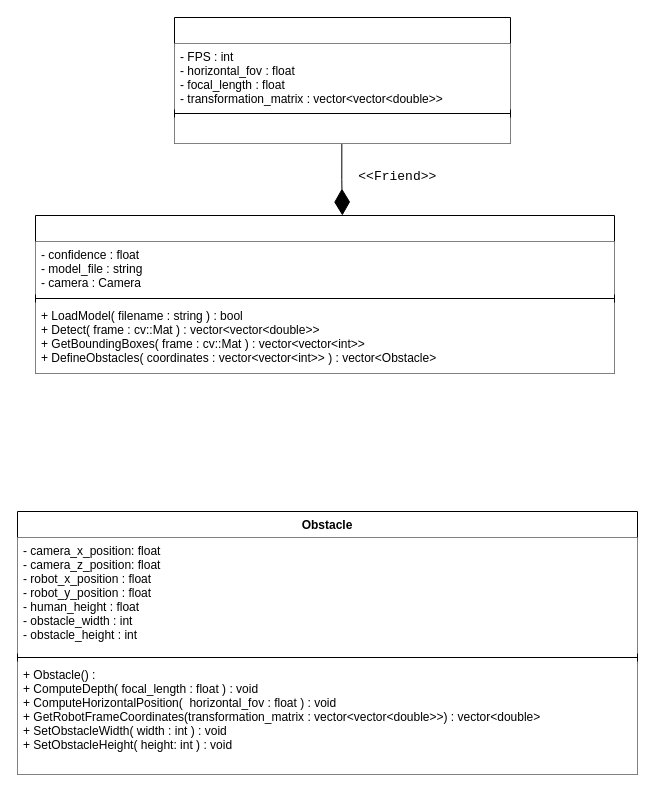
The diagram is 655 pixels wide and 795 high, and some of its shapes have lost their labels. The shapes that lost their labels are listed below. From the top down, each one's box as (x1, y1, x2, y2) in pixels, then its label:
(174, 16, 510, 144): Camera
(34, 214, 614, 374): Detector
